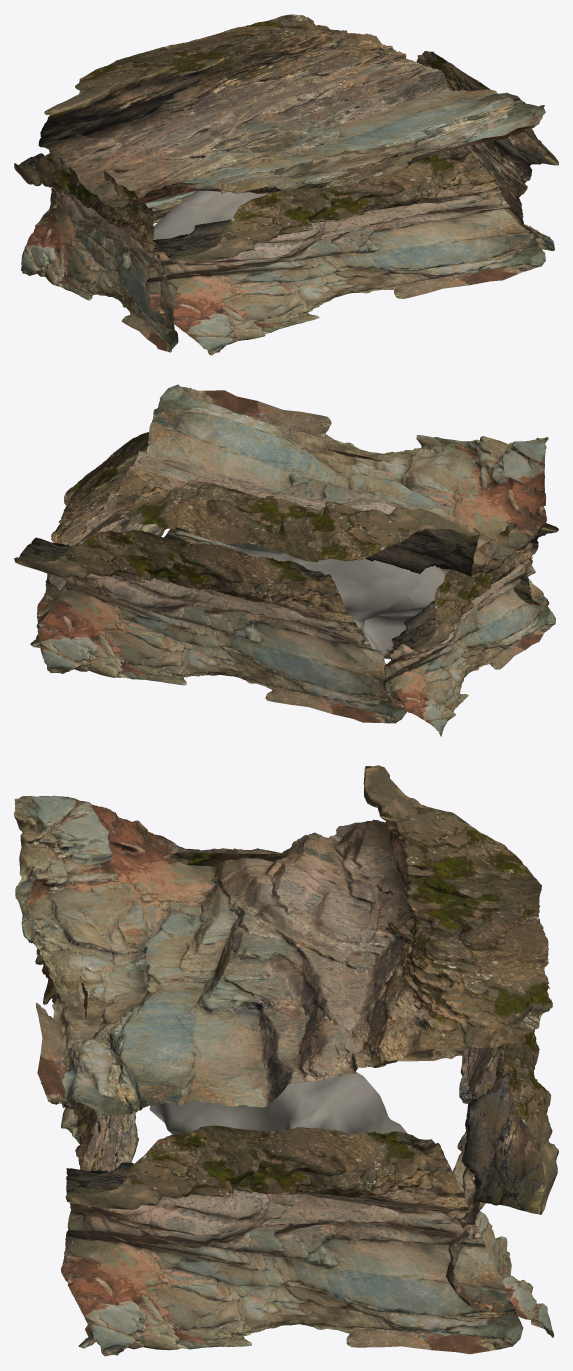
The model's file is corealm_sunder_ledge.glb.
3 views of the same model, one above another, from view 1: azimuth 30°, elevation 25°; view 2: azimuth 150°, elevation 25°; view 3: azimuth 270°, elevation 25° (orthographic). The views are drawn at different scales.
Parts seen in each view (by area): view 1: upper fractured bed, front bedding, left flank, right flank, buried quiet support 0, rear bedding; view 2: upper fractured bed, rear bedding, left flank, buried quiet support 0, right flank, front bedding; view 3: upper fractured bed, right flank, rear bedding, buried quiet support 0, front bedding, left flank.
Part boxes in pixels (x1=…): upper fractured bed: x1=38, y1=14, x2=545, y2=209; front bedding: x1=146, y1=151, x2=545, y2=355; left flank: x1=14, y1=152, x2=178, y2=352; right flank: x1=416, y1=51, x2=558, y2=250; buried quiet support 0: x1=153, y1=190, x2=267, y2=244; rear bedding: x1=39, y1=191, x2=195, y2=229; upper fractured bed: x1=113, y1=384, x2=548, y2=575; rear bedding: x1=14, y1=530, x2=406, y2=723; left flank: x1=383, y1=523, x2=555, y2=736; buried quiet support 0: x1=220, y1=546, x2=445, y2=659; right flank: x1=30, y1=432, x2=166, y2=647; front bedding: x1=164, y1=448, x2=558, y2=605; upper fractured bed: x1=14, y1=765, x2=552, y2=1115; right flank: x1=61, y1=1125, x2=523, y2=1356; rear bedding: x1=446, y1=1029, x2=558, y2=1337; buried quiet support 0: x1=149, y1=1072, x2=407, y2=1134; front bedding: x1=35, y1=948, x2=138, y2=1348; left flank: x1=163, y1=852, x2=462, y2=1067.
Size of the model in its own units: 9.32 by 4.45 by 6.74.
Materials: 2 (2 with a texture image).
